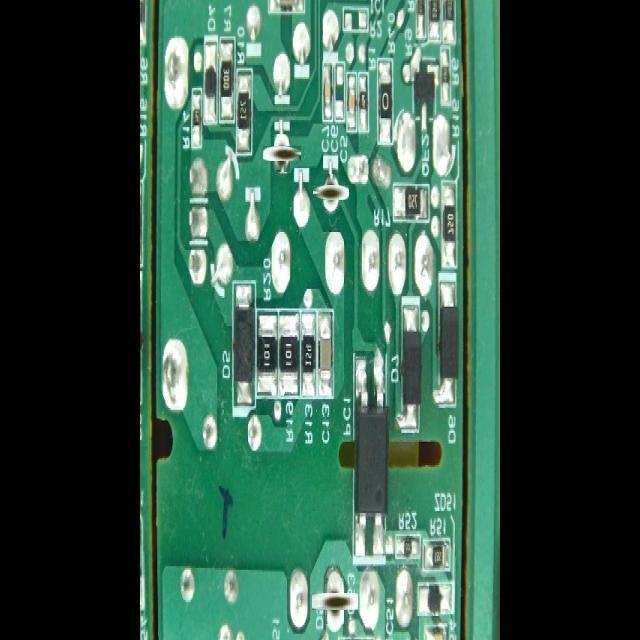damged: (319, 586, 351, 618), (268, 139, 296, 167), (318, 179, 344, 205)
